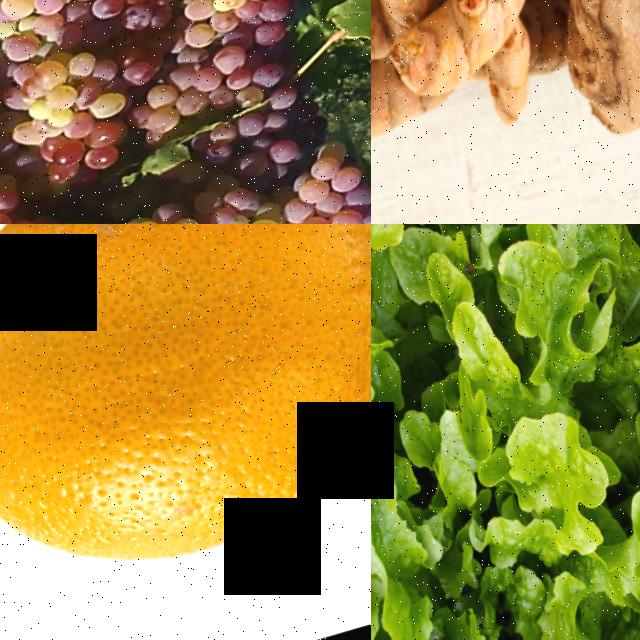ginger: (371, 0, 594, 173), (543, 0, 640, 161)
grapes: (2, 37, 157, 205), (144, 0, 327, 76), (0, 0, 169, 77), (242, 146, 371, 224)
lemon: (0, 224, 371, 625)
lettuce: (371, 224, 640, 640)
